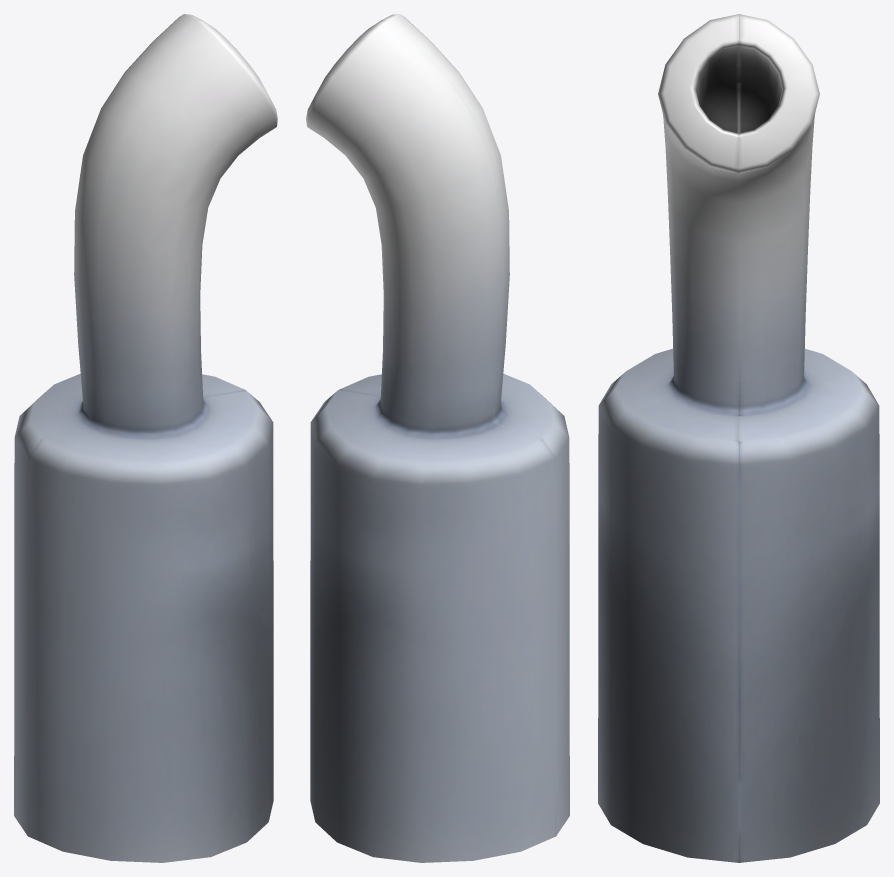
The model's file is m_lorry_van_exhaust_01.fbx.
The picture shows the model from 3 angles, left to right: view 1: azimuth 30°, elevation 25°; view 2: azimuth 150°, elevation 25°; view 3: azimuth 270°, elevation 25°; orthographic projection. The views are drawn at different scales.
Parts seen in each view (by area): view 1: m_lorry_van_exhaust_01; view 2: m_lorry_van_exhaust_01; view 3: m_lorry_van_exhaust_01.
Part boxes in pixels (x1=…): m_lorry_van_exhaust_01: x1=14, y1=14, x2=277, y2=862; m_lorry_van_exhaust_01: x1=306, y1=14, x2=569, y2=862; m_lorry_van_exhaust_01: x1=598, y1=14, x2=879, y2=862.
Bounding box in the file's own units: 0.8059 × 2.54 × 0.7937.
